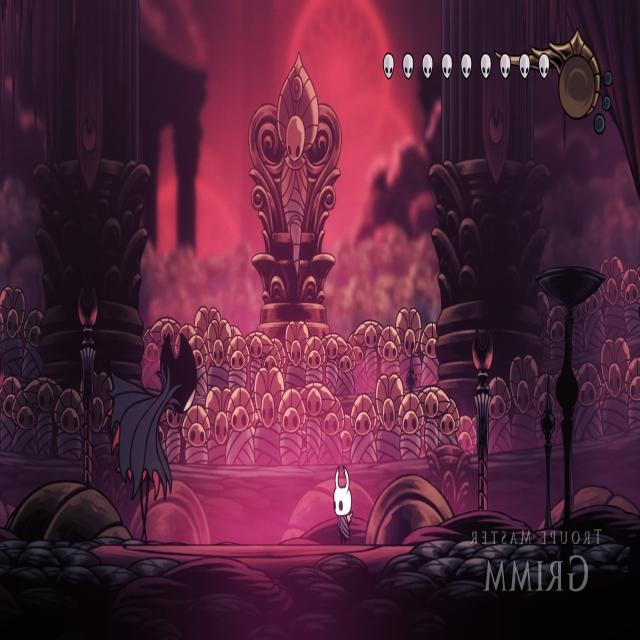Grimm: (102, 321, 200, 551)
Player: (332, 461, 356, 544)
